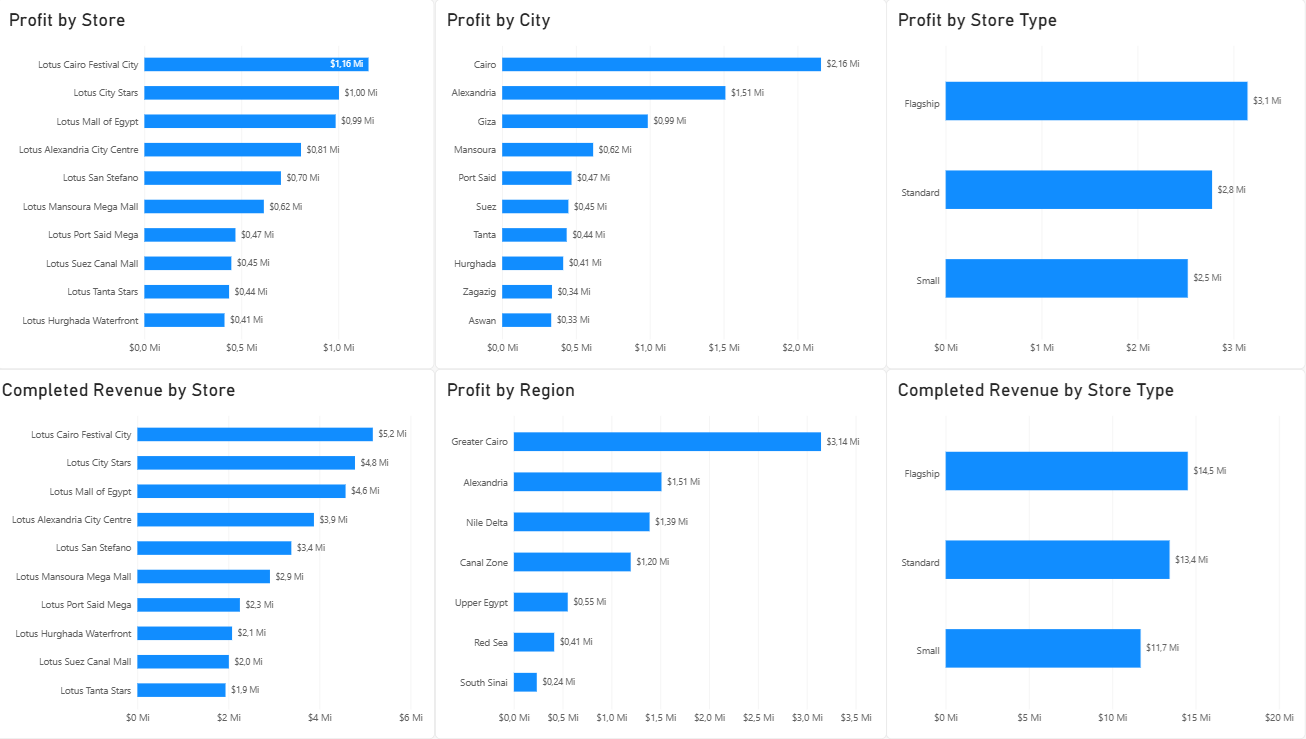

What the dashboard file says about the page in this screenshot:
{"tool":"powerbi","page":{"name":"Store Performance","canvas":[1920,1080],"ordinal":3},"visuals":[{"type":"barChart","title":"Profit by Store","fields":{"Category":["dim_stores.store_name"],"Y":["fact_order_details.Lucro Pedidos Concluídos"]},"box":[10.6,0,638,540],"z":0},{"type":"barChart","title":"Profit by City","fields":{"Category":["dim_stores.city"],"Y":["fact_order_details.Lucro Pedidos Concluídos"]},"box":[648.5,0,659.1,540],"z":1000},{"type":"barChart","title":"Profit by Store Type","fields":{"Category":["dim_stores.store_type"],"Y":["fact_order_details.Lucro Pedidos Concluídos"]},"box":[1307.7,0,612.3,540],"z":2000},{"type":"barChart","title":"Completed Revenue by Store","fields":{"Category":["dim_stores.store_name"],"Y":["Sum(fact_orders.Faturamento Pedidos Concluídos)"]},"box":[0,540,648.5,540],"z":3000},{"type":"barChart","title":"Completed Revenue by Store Type","fields":{"Category":["dim_stores.store_type"],"Y":["Sum(fact_orders.Faturamento Pedidos Concluídos)"]},"box":[1307.7,540,612.3,540],"z":4000},{"type":"barChart","title":"Profit by Region","fields":{"Category":["dim_stores.region"],"Y":["fact_order_details.Lucro Pedidos Concluídos"]},"box":[648.5,540,659.1,540],"z":5000}]}

Visuals, with their boxes in screenshot pixels (x1, y1, x2, y2), scaled from the page's 1920x1080 canvas onto the 1306x739 screenshot:
"Profit by Store" barChart: (7, 0, 441, 370)
"Profit by City" barChart: (441, 0, 889, 370)
"Profit by Store Type" barChart: (890, 0, 1305, 370)
"Completed Revenue by Store" barChart: (0, 370, 441, 738)
"Completed Revenue by Store Type" barChart: (890, 370, 1305, 738)
"Profit by Region" barChart: (441, 370, 889, 738)
